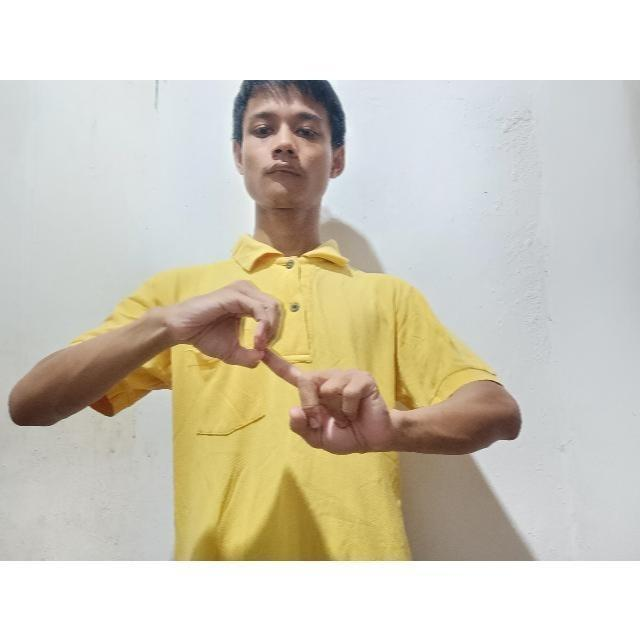Q: (187, 276, 393, 452)
